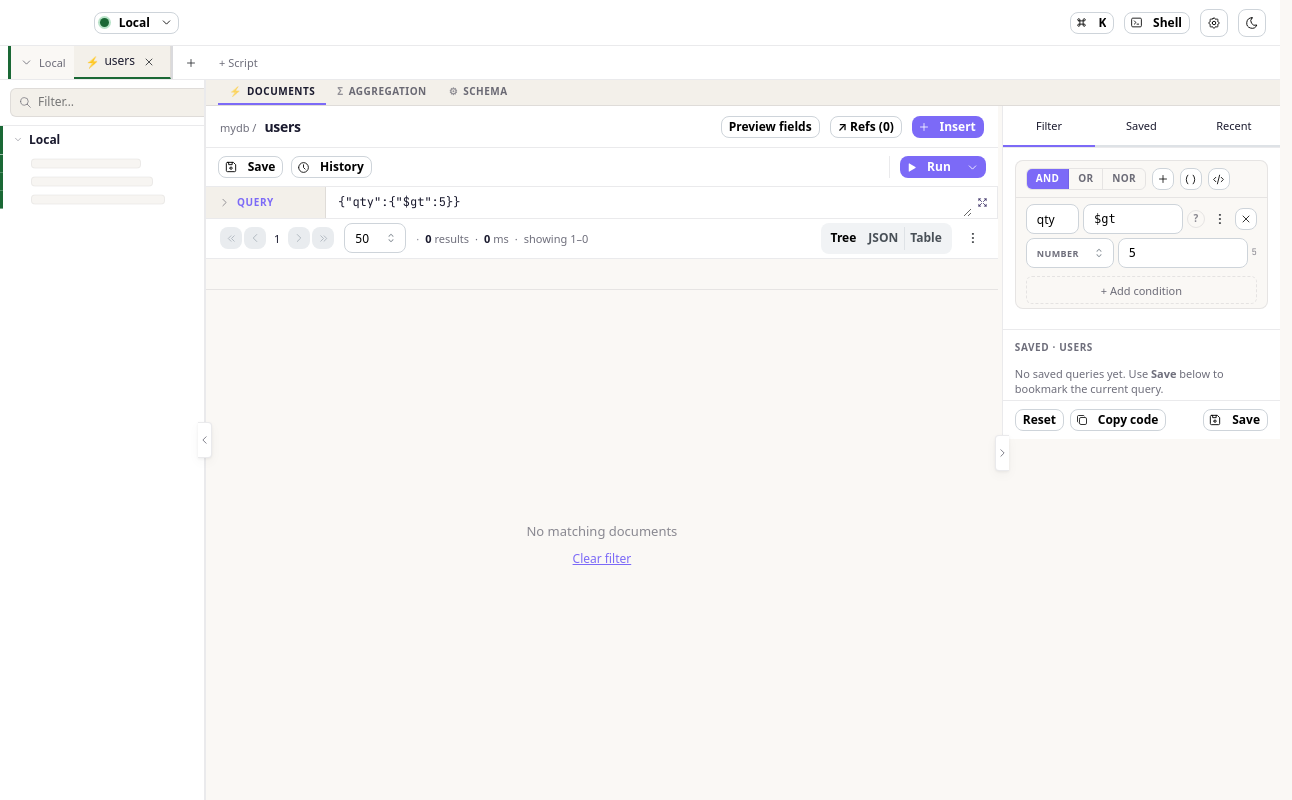
it: Filter drawer — print failure (W13 §5, §11) › a bad value leaves queryRaw untouched, surfaces the row message, and shows the "N not applied" badge
Expected: the text box with test id "query-bar-input" holds "{\"qty\":{\"$gt\":5}}", [330,187,972,218]
Replace the text in the 3rd field with placeholder "value" with "not-a-number" at (1183, 253), box [1118,238,1248,268]
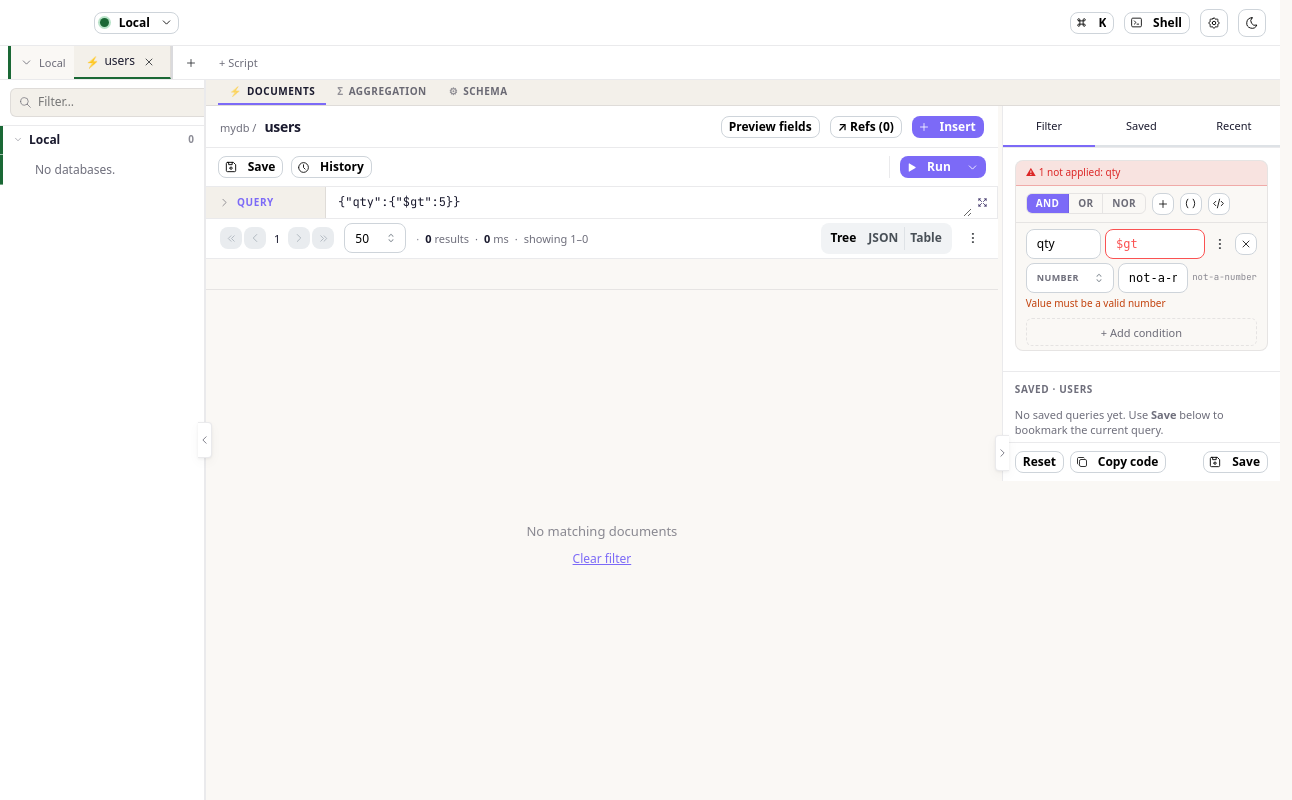
Expected: the text box with test id "query-bar-input" holds "{\"qty\":{\"$gt\":5}}", [330,187,972,218]
Now the text "Value must be a valid number" is shown, box [1026,296,1166,310]
Now the message "⚠ 1 not applied: qty" is shown, box [1016,161,1267,186]
